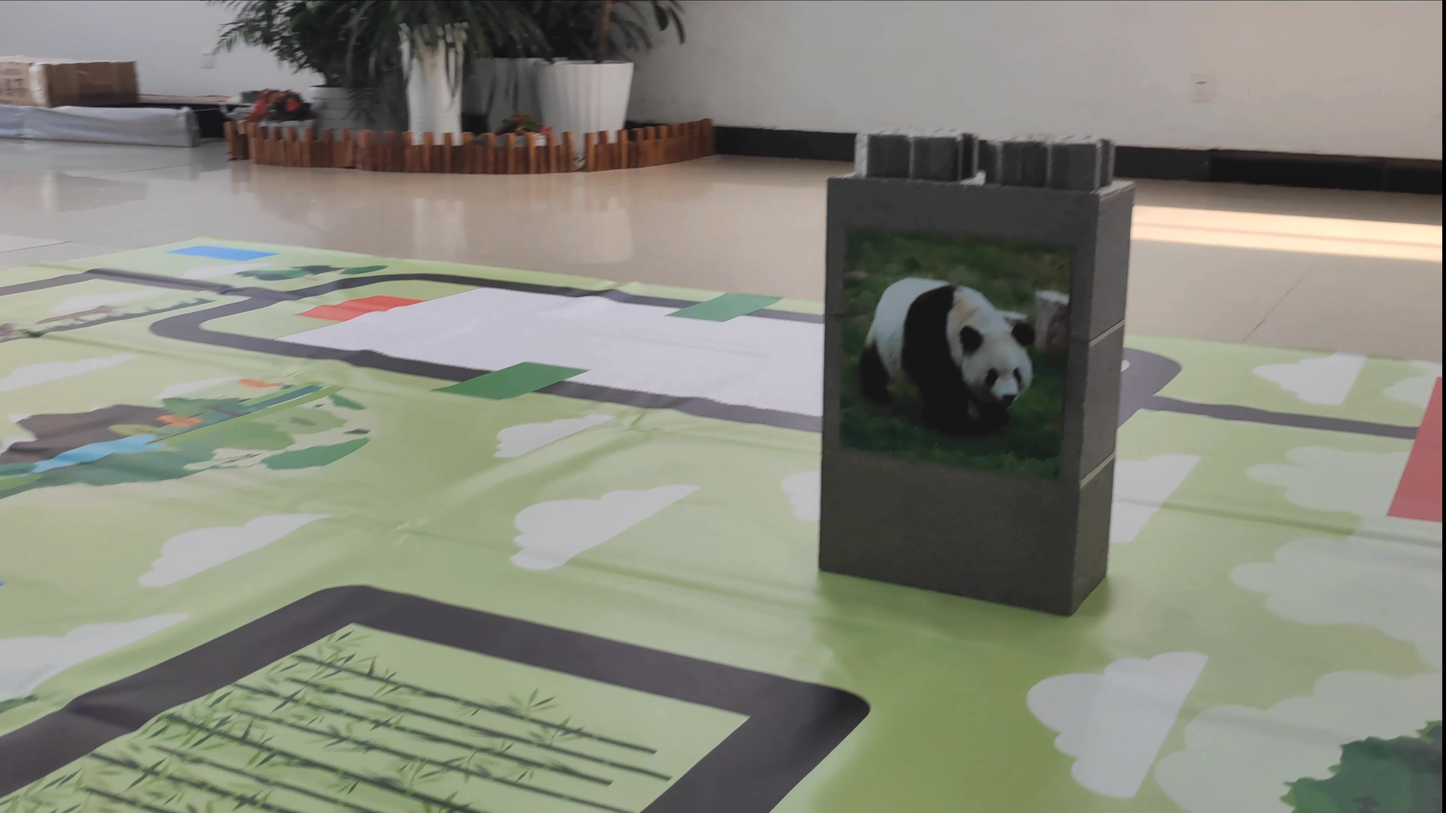panda: (844, 254, 1040, 431)
